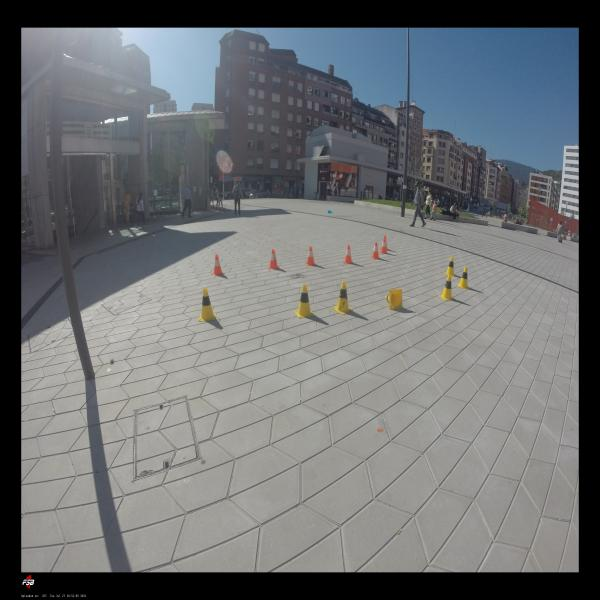orange_cone: (211, 254, 225, 275), (268, 248, 280, 270), (305, 246, 316, 265), (343, 244, 353, 264), (371, 242, 380, 260), (380, 238, 388, 254), (380, 235, 388, 250)
yellow_cone: (332, 281, 353, 314), (295, 284, 314, 318), (199, 288, 216, 321), (439, 274, 455, 300), (385, 289, 403, 310), (457, 266, 470, 290), (444, 256, 457, 276)
